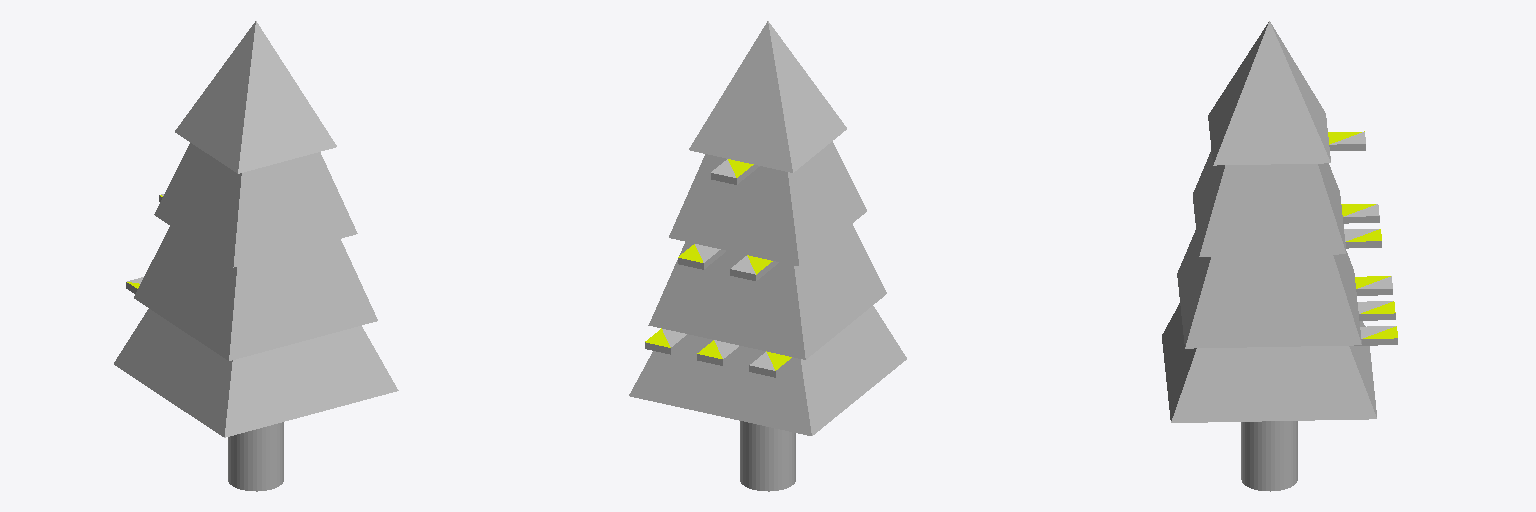
robot.urdf — block:
<?xml version="1.0"?>
<robot name="block">


<link name="christmas tree">
  <self_collide> true </self_collide>
  <visual>
    <origin xyz="0.05 -0.35 0" rpy="0 0 110"/>
    <geometry>
      <mesh scale = "0.0009 0.0009 0.0009" filename = "package://ur_description/meshes/christmas_tree/tree_model.dae"/>
    </geometry>
    <material name="orange"/>
  </visual>



  <inertial>
   <origin xyz="0 0 0" rpy="0 0 0"/>
   <mass value="0.0225" />
   <inertia
      ixx="0.00000379215" ixy="0.0"  ixz="0.0"
      iyy="0.00000379215" iyz="0.0"  izz="0.00000379215" />
  </inertial>

</link>

<gazebo reference="christmas tree">
  <mu1>100</mu1>
  <mu2>100</mu2>
  <kp>2147483647</kp>
  <kd>1</kd>
  <maxVel>0</maxVel>
  <minDepth>0.001</minDepth>
  
</gazebo>

</robot>

--- What the picture shows (computed from the rendered views, not written in the file) ---
3 views of the same robot in one strip: view 1: azimuth 30°, elevation 25°; view 2: azimuth 150°, elevation 25°; view 3: azimuth 270°, elevation 25° (orthographic).
Model block with 1 links and 0 joints (none), rooted at christmas tree, posed every joint at zero.
Visible links, largest first — view 1: christmas tree; view 2: christmas tree; view 3: christmas tree.
Boxes of the visible links, <box> form: christmas tree: <box>114,21,398,491</box>; christmas tree: <box>629,21,906,491</box>; christmas tree: <box>1162,21,1397,491</box>.
Size in the robot's own frame: 0.1315 by 0.1441 by 0.3095 metres.
1 mesh visuals loaded from 1 distinct referenced files (1 Collada DAE).
